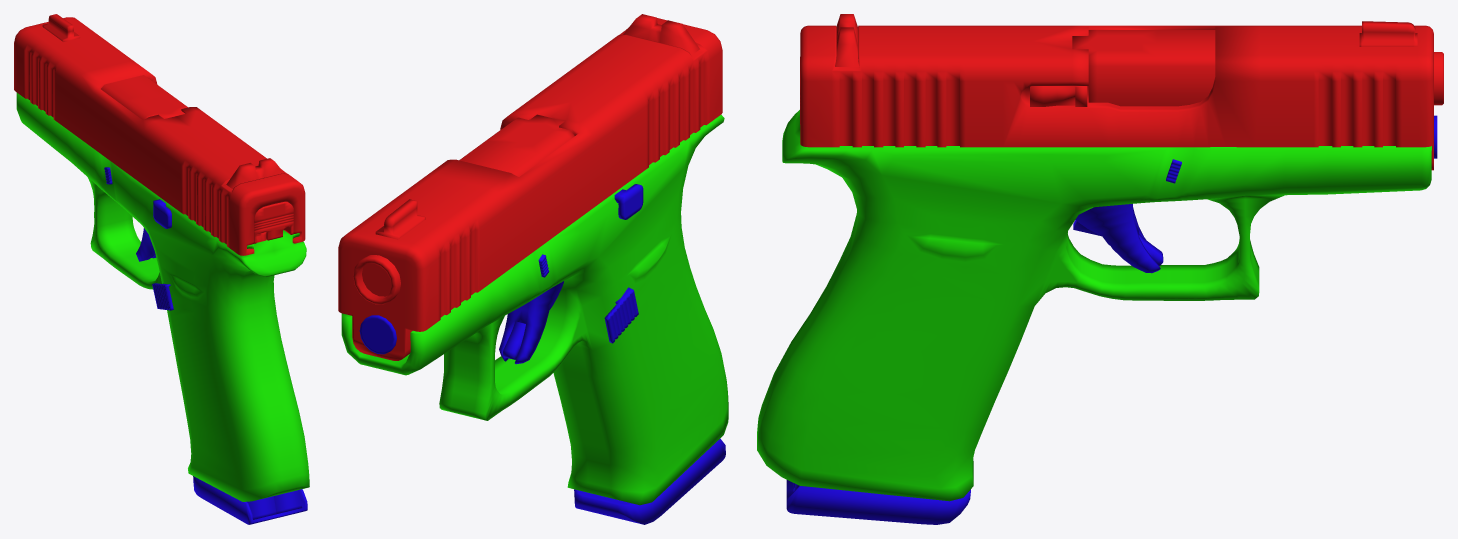
File: pistol.fbx
3 views of the same model, side by side, from view 1: azimuth 30°, elevation 25°; view 2: azimuth 150°, elevation 25°; view 3: azimuth 270°, elevation 25° (orthographic). The views are drawn at different scales.
Parts seen in each view (by area): view 1: Gun_Under, Gun_Top, Gun_Fire; view 2: Gun_Under, Gun_Top, Gun_Fire; view 3: Gun_Under, Gun_Top, Gun_Fire.
Boxes of the visible parts, bbox=[...] form: Gun_Under: bbox=[16, 92, 309, 501]; Gun_Top: bbox=[14, 14, 305, 255]; Gun_Fire: bbox=[104, 167, 307, 524]; Gun_Under: bbox=[341, 114, 728, 505]; Gun_Top: bbox=[338, 14, 722, 360]; Gun_Fire: bbox=[359, 184, 725, 524]; Gun_Under: bbox=[757, 110, 1431, 501]; Gun_Top: bbox=[800, 14, 1443, 170]; Gun_Fire: bbox=[786, 115, 1437, 524].
Bounding box in the file's own units: 0.1543 × 0.889 × 0.6897.
